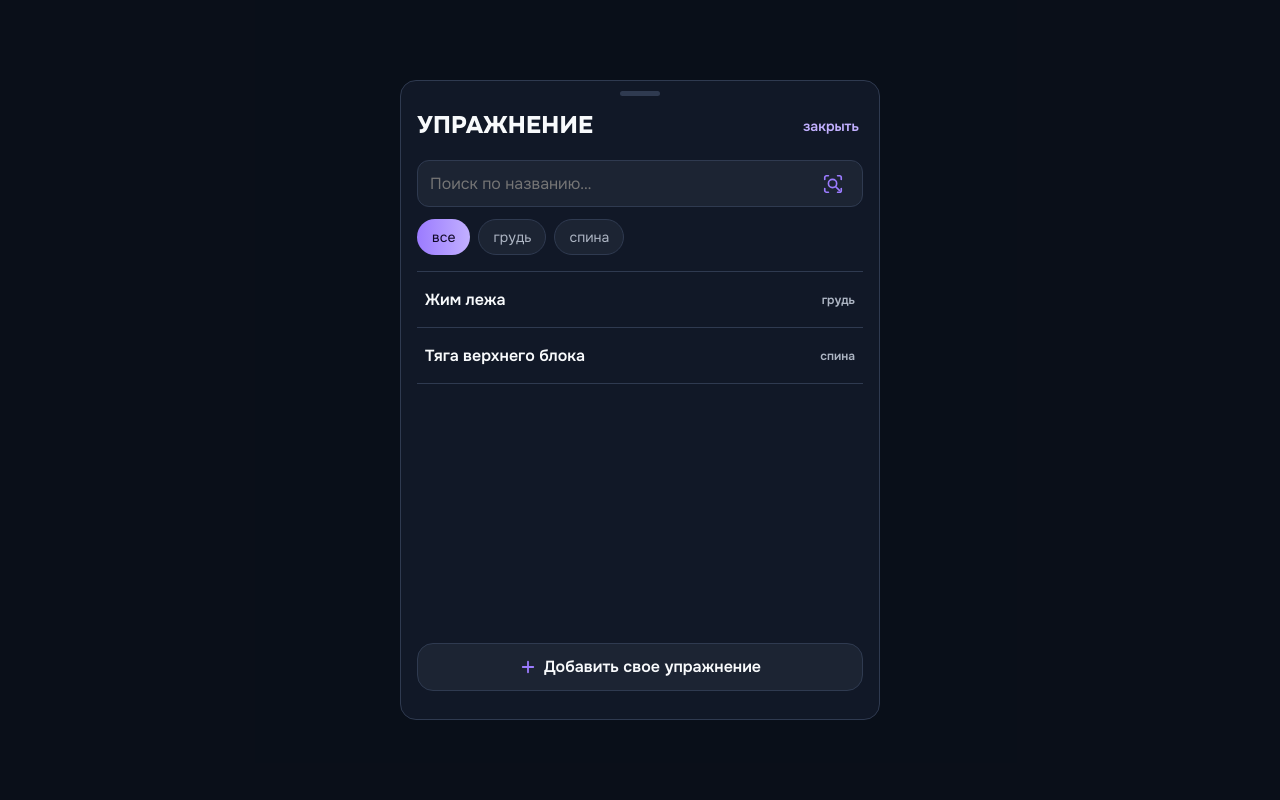
Test: ExercisePicker — свое упражнение › при замене упражнения кнопка формы — «Сохранить и заменить» (UI-ревью 23.10)
The width and height of the screenshot is (1280, 800).
Type "Жим Арнольда" into the field with placeholder "Поиск по названию…" at (640, 184), box [417, 160, 863, 207]
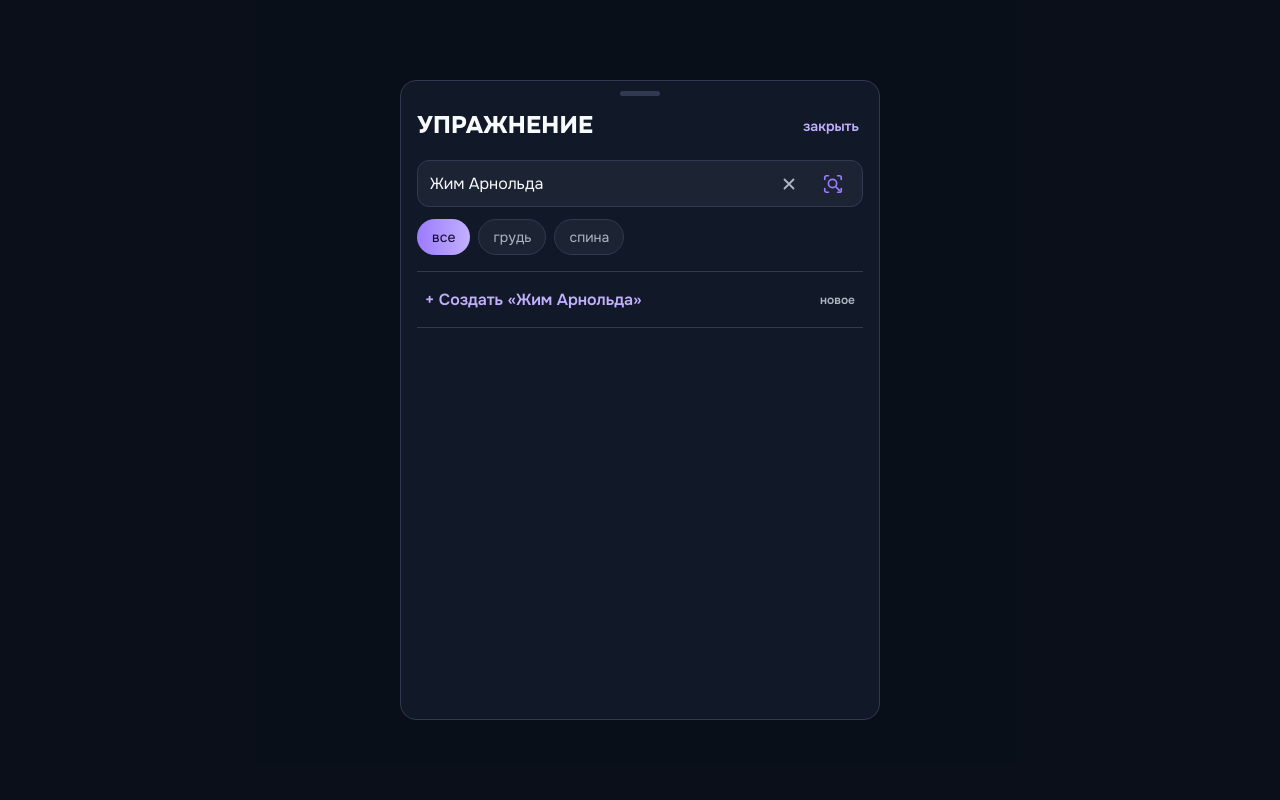
Click the text "+ Создать «Жим Арнольда»" at (533, 300), box [425, 289, 642, 310]
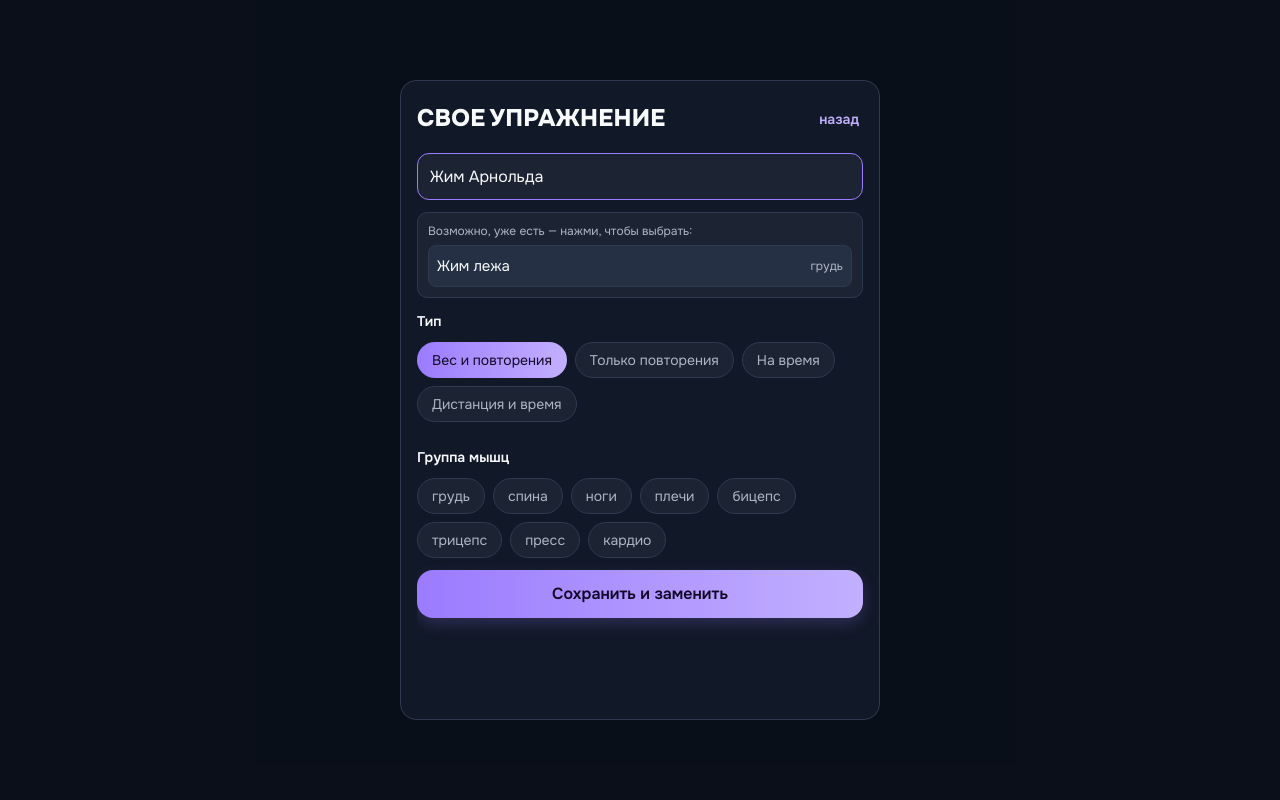
Expected: the button "Сохранить и заменить" is shown, [417, 570, 863, 618]
